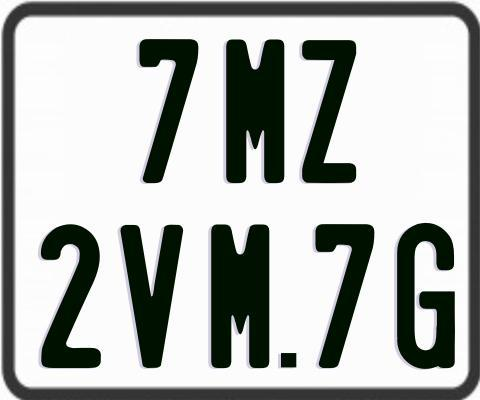2: (39, 223, 104, 367)
7: (137, 38, 201, 182), (313, 222, 374, 366)
G: (395, 221, 455, 372)
M: (210, 224, 270, 372), (223, 36, 281, 186)
V: (118, 223, 181, 370)
Z: (300, 40, 358, 186)
